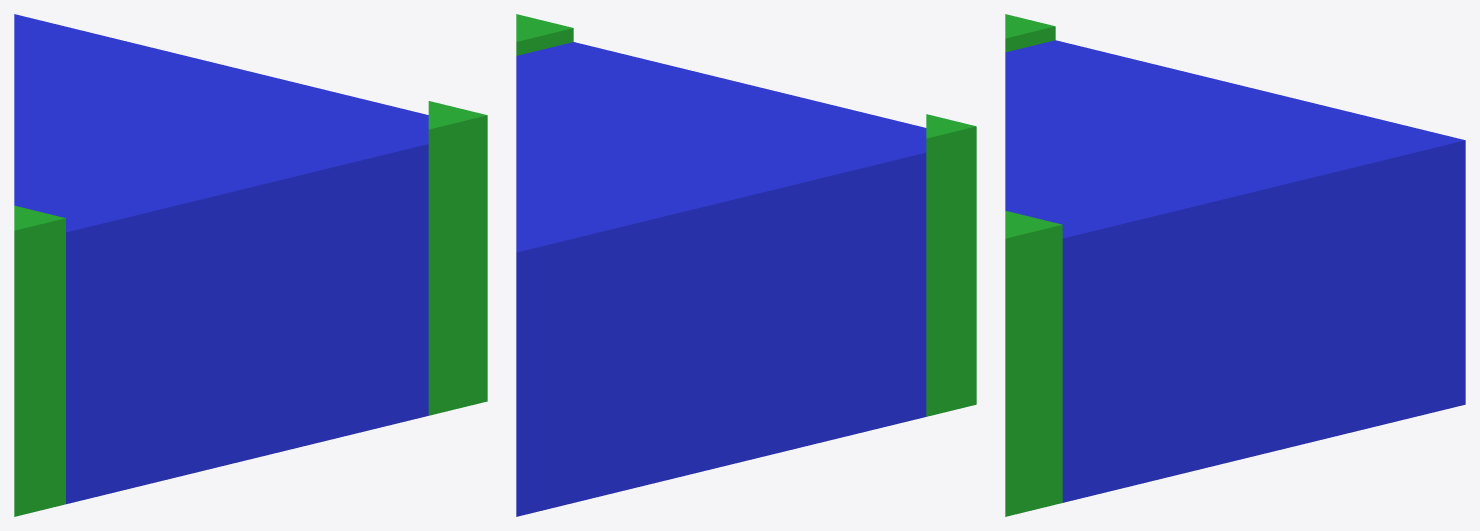
File: river-delta_face.glb
3 renders of one model, left to right at view 1: azimuth 30°, elevation 25°; view 2: azimuth 150°, elevation 25°; view 3: azimuth 270°, elevation 25°, orthographic. The views are drawn at different scales.
Visible parts, largest first — view 1: river-delta_face; view 2: river-delta_face; view 3: river-delta_face.
Boxes of the visible parts, x1,y1,x2,y2 form: river-delta_face: (14,14,487,516); river-delta_face: (516,14,976,516); river-delta_face: (1005,14,1465,516).
Bounding box in the file's own units: 0.866 × 0.5 × 0.75.
